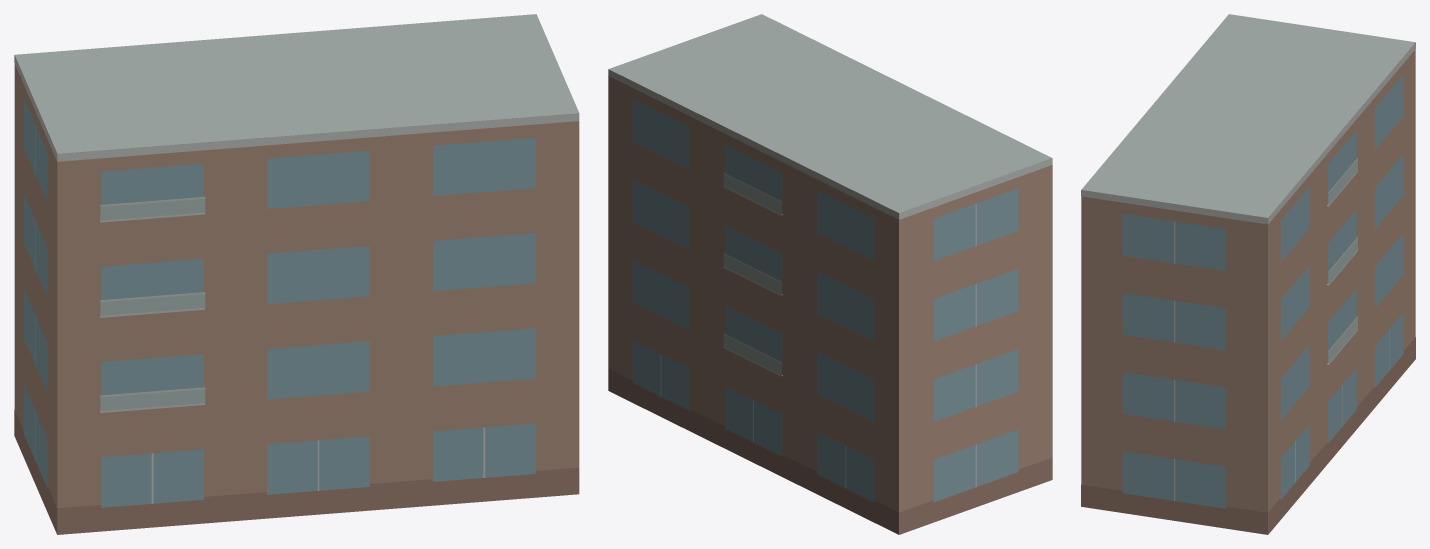
The model's file is survey-upis-32889830.glb.
The picture shows the model from 3 angles, left to right: view 1: azimuth 30°, elevation 25°; view 2: azimuth 150°, elevation 25°; view 3: azimuth 270°, elevation 25°; orthographic projection. The views are drawn at different scales.
Parts seen in each view (by area): view 1: survey-upis-32889830.tmp; view 2: survey-upis-32889830.tmp; view 3: survey-upis-32889830.tmp.
Part boxes in pixels (box(x1,y1,x2,y2)): survey-upis-32889830.tmp: box(14, 14, 579, 534); survey-upis-32889830.tmp: box(608, 14, 1052, 534); survey-upis-32889830.tmp: box(1081, 14, 1415, 534).
Bounding box in the file's own units: 16.3 × 11.8 × 11.3.
